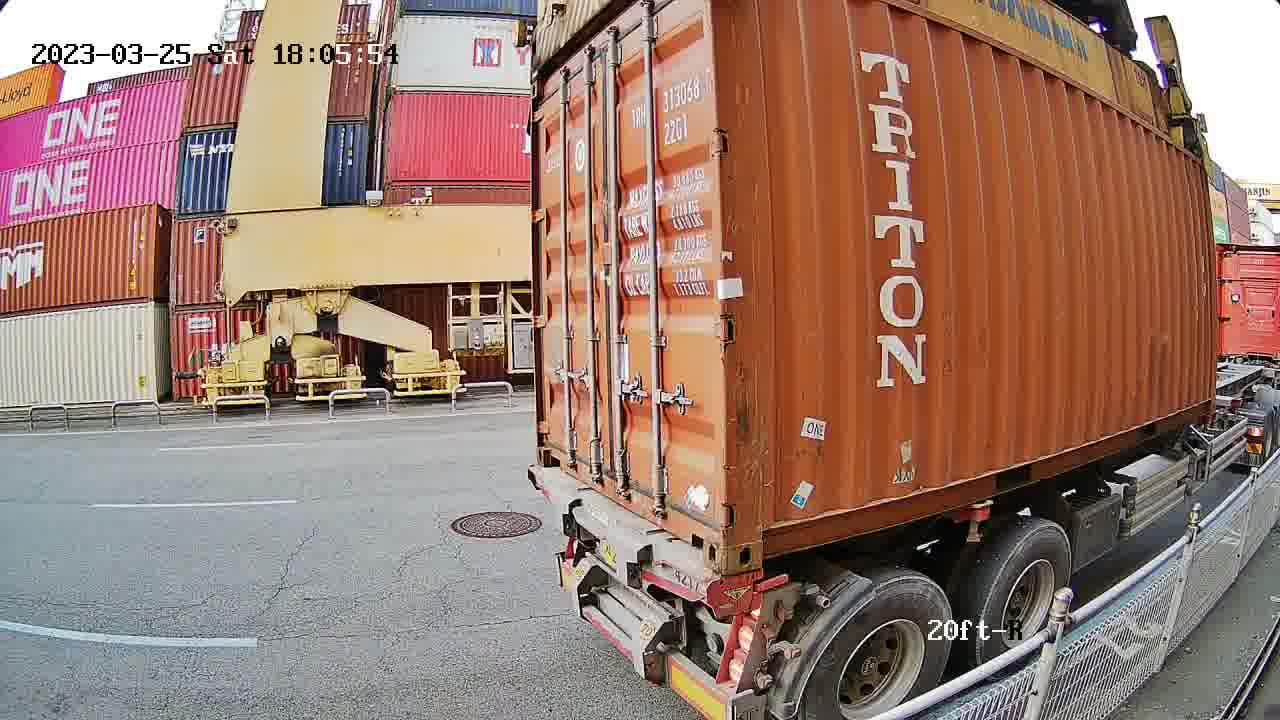Chassis: (531, 466, 758, 614)
Cone: (723, 571, 758, 615)
Hole_L: (723, 500, 794, 575), (536, 426, 569, 473)
Hole_R: (679, 496, 723, 575)
Tire: (802, 580, 956, 714), (980, 527, 1070, 678)
